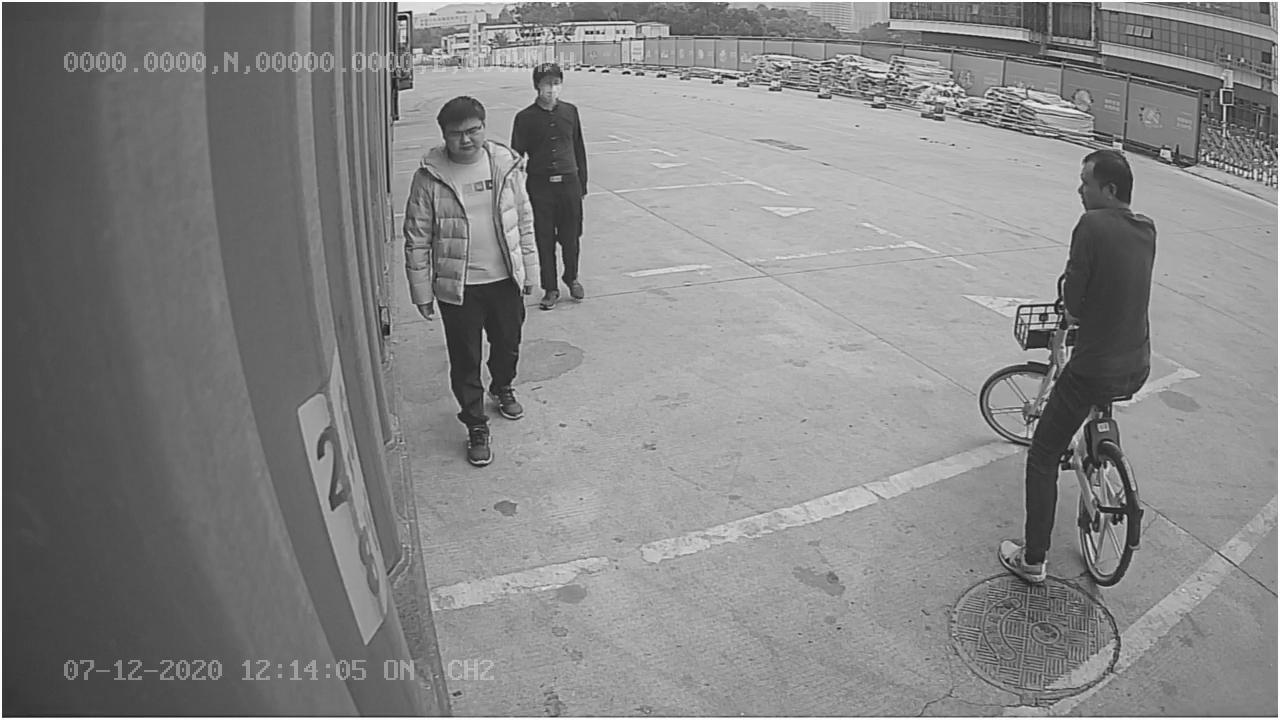person: (405, 91, 538, 465)
